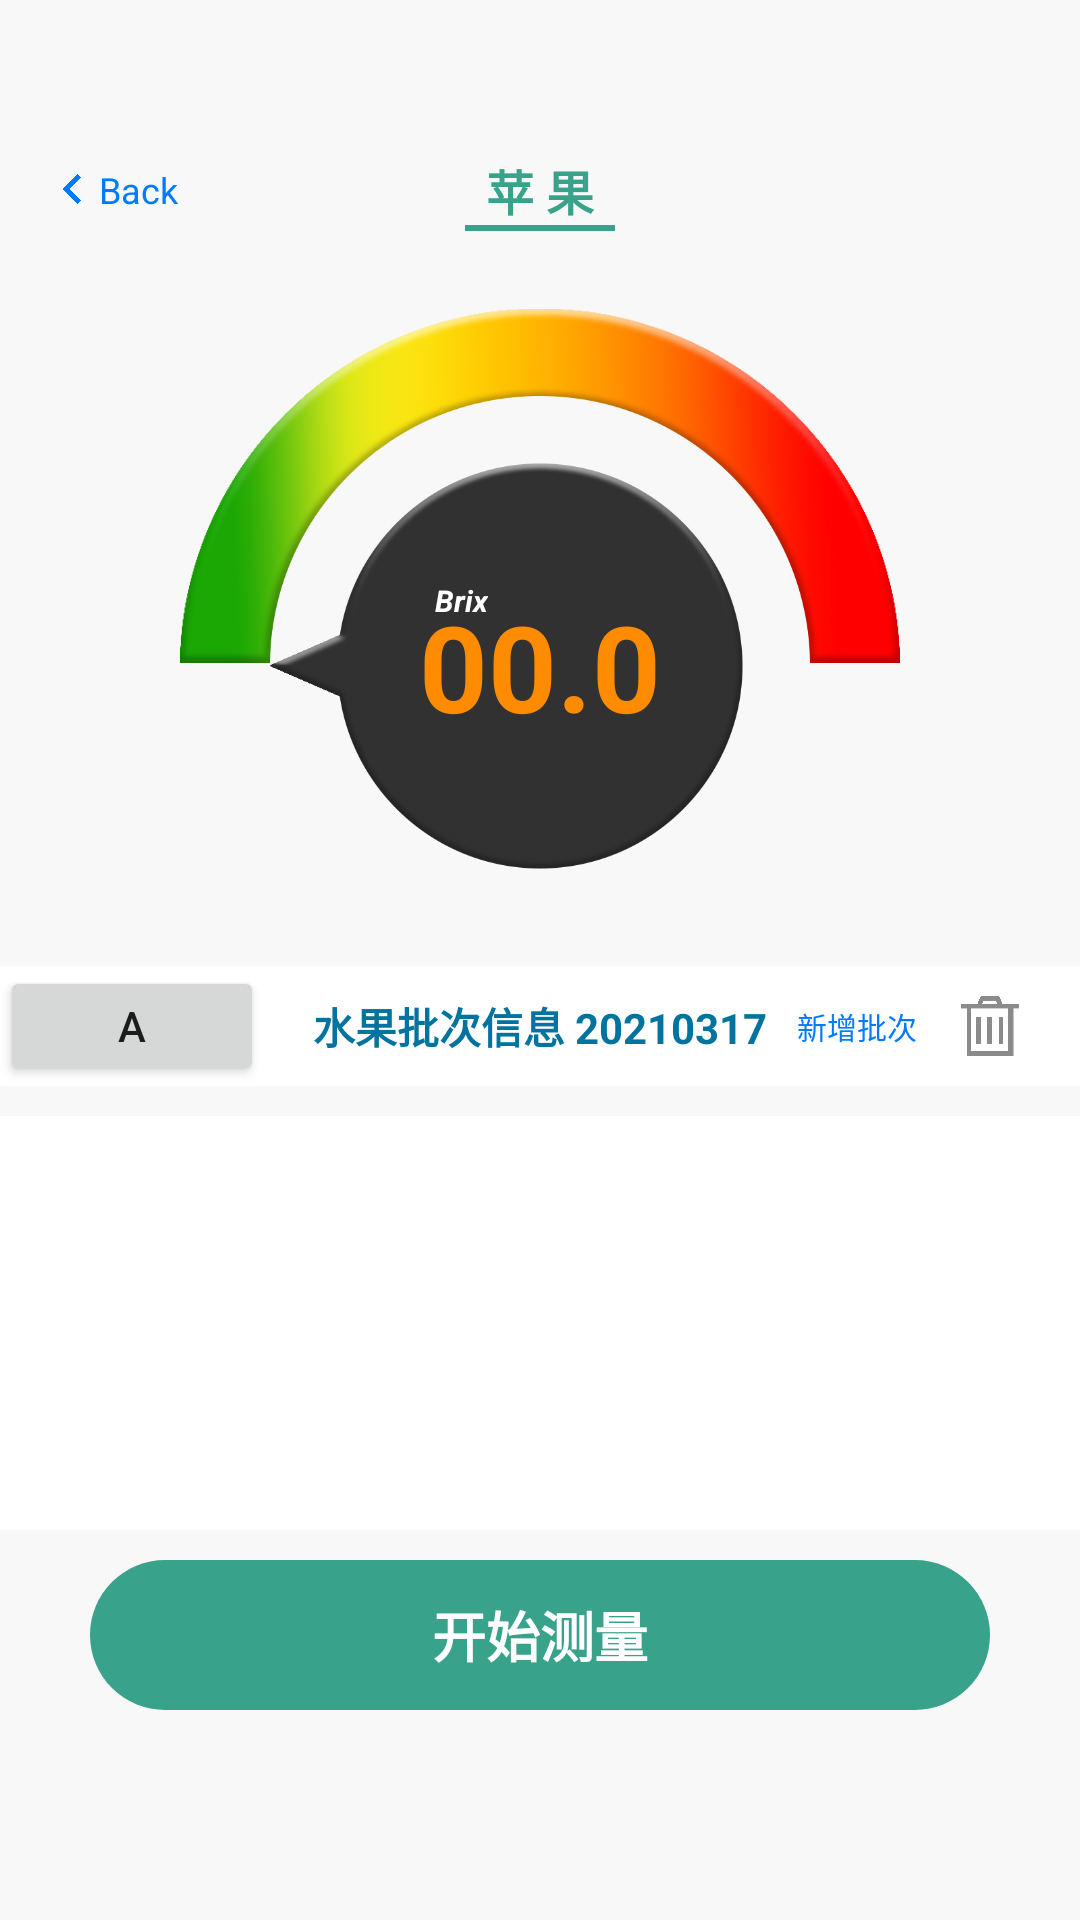

Screen size 1080w x 1920h. Icon name, then its center in pixels as point (x, y):
delete: point (990, 1026)
